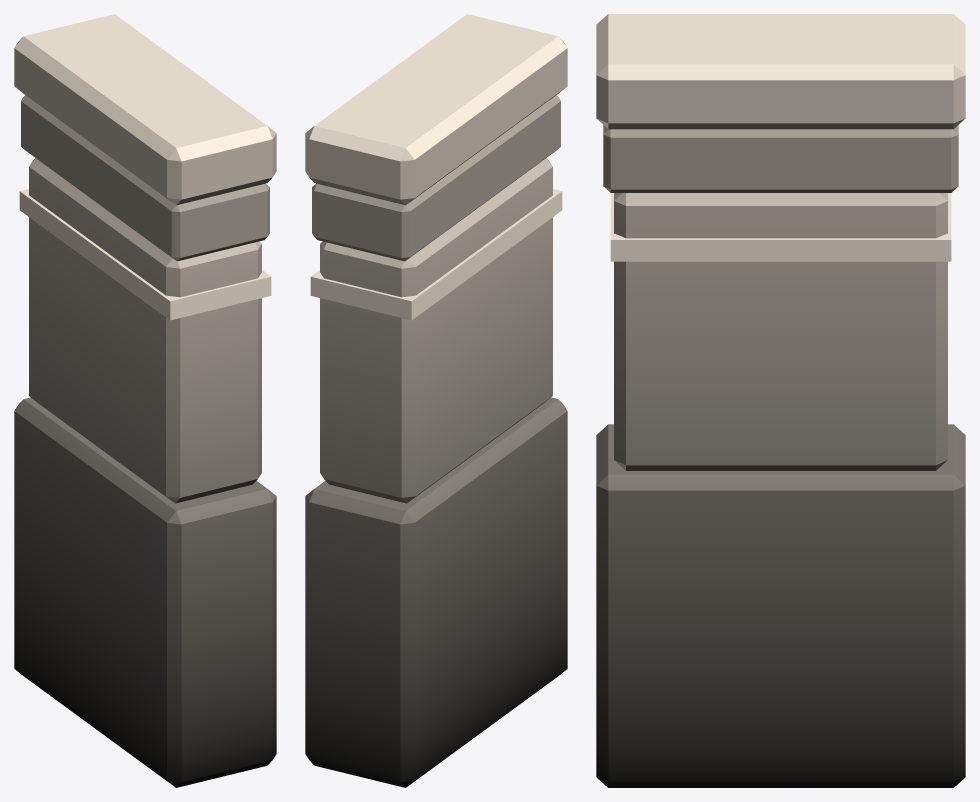
Rendered from SM_VKI_Post_Dwarf_Mid_Cut.fbx.
The picture shows the model from 3 angles, left to right: view 1: azimuth 30°, elevation 25°; view 2: azimuth 150°, elevation 25°; view 3: azimuth 270°, elevation 25°; orthographic projection. The views are drawn at different scales.
Visible parts, largest first — view 1: SM_VKI_Post_Dwarf_Mid_Cut.001; view 2: SM_VKI_Post_Dwarf_Mid_Cut.001; view 3: SM_VKI_Post_Dwarf_Mid_Cut.001.
Boxes of the visible parts, bbox=[...] form: SM_VKI_Post_Dwarf_Mid_Cut.001: bbox=[14, 14, 276, 787]; SM_VKI_Post_Dwarf_Mid_Cut.001: bbox=[305, 14, 567, 787]; SM_VKI_Post_Dwarf_Mid_Cut.001: bbox=[596, 14, 965, 787].
Bounding box in the file's own units: 0.24 × 1.34 × 0.62.
